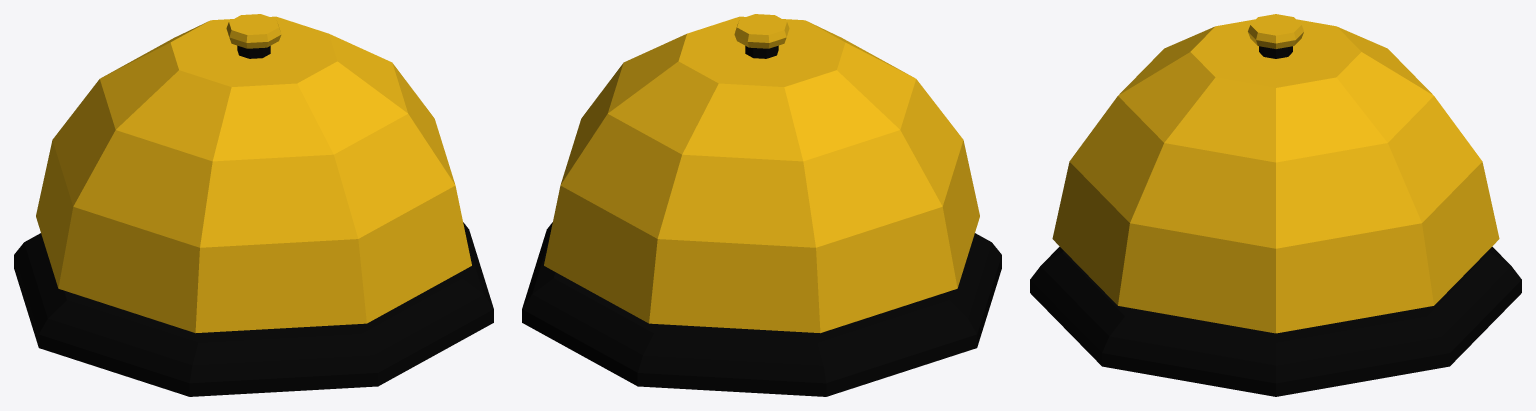
The model's file is Timbre_Mesa.fbx.
3 renders of one model, left to right at view 1: azimuth 30°, elevation 25°; view 2: azimuth 150°, elevation 25°; view 3: azimuth 270°, elevation 25°, orthographic.
Visible parts, largest first — view 1: Timbre_Mesa; view 2: Timbre_Mesa; view 3: Timbre_Mesa.
Boxes of the visible parts, x1,y1,x2,y2 form: Timbre_Mesa: (14,14,493,396); Timbre_Mesa: (522,14,1001,396); Timbre_Mesa: (1030,14,1521,396).
Bounding box in the file's own units: 16.5 × 9.93 × 16.5.
